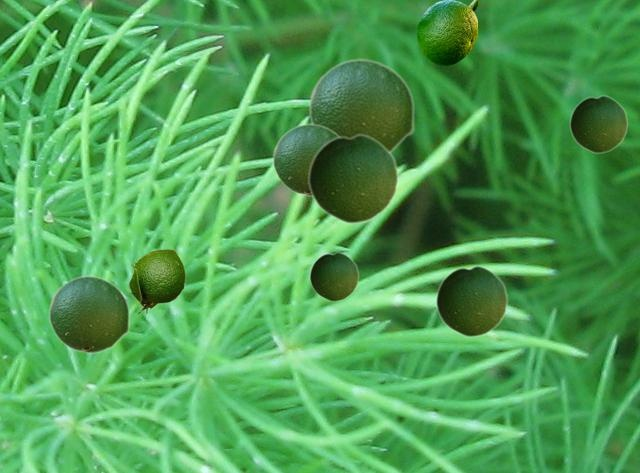dalandan: (308, 58, 414, 152), (307, 133, 398, 224), (48, 275, 129, 353), (435, 264, 507, 337), (272, 123, 338, 196), (417, 0, 476, 64), (128, 249, 184, 313), (569, 94, 627, 153), (309, 251, 358, 301)
